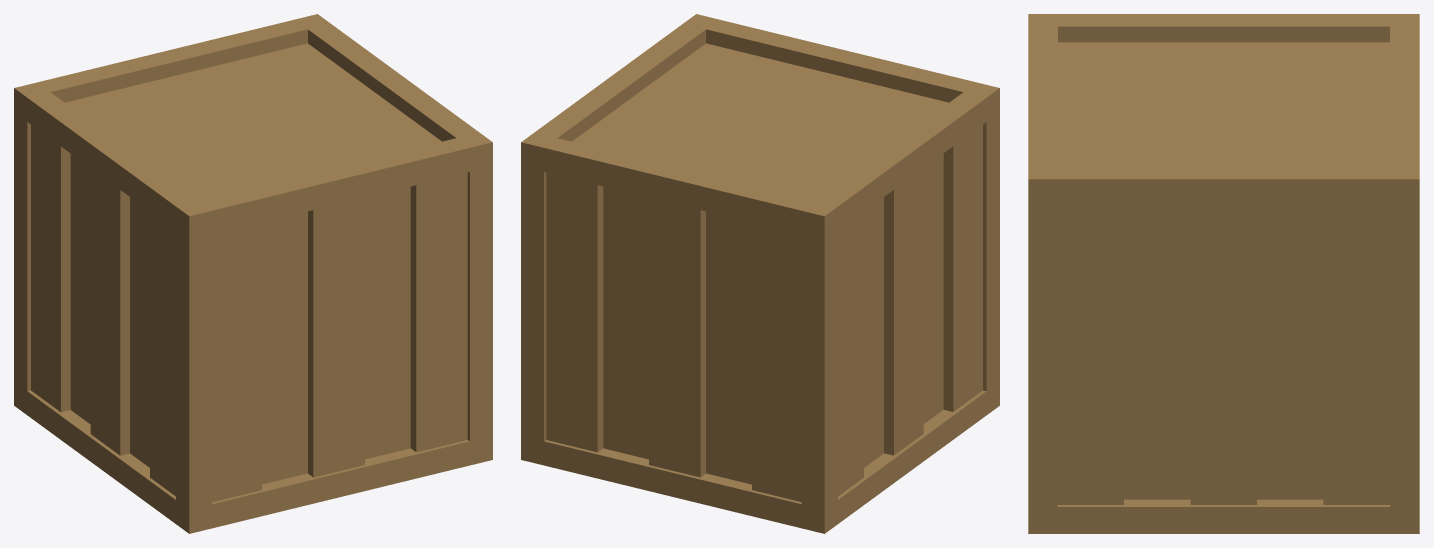
3 renders of one model, left to right at view 1: azimuth 30°, elevation 25°; view 2: azimuth 150°, elevation 25°; view 3: azimuth 270°, elevation 25°, orthographic. The views are drawn at different scales.
Parts seen in each view (by area): view 1: Cube; view 2: Cube; view 3: Cube.
Part boxes in pixels (x1=…): Cube: x1=14, y1=14, x2=492, y2=533; Cube: x1=521, y1=14, x2=999, y2=533; Cube: x1=1028, y1=14, x2=1419, y2=533.
Bounding box in the file's own units: 200 × 200 × 200.
